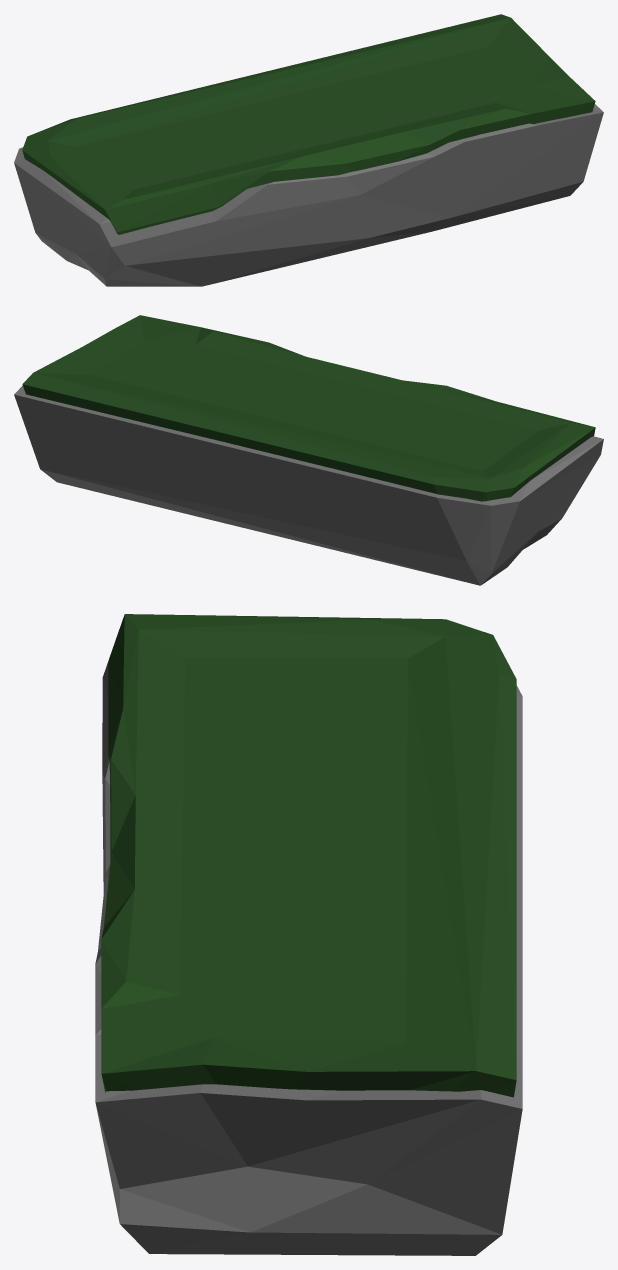
The model's file is SM_ornaments_jungle_03.fbx.
3 renders of one model, top to bottom at view 1: azimuth 30°, elevation 25°; view 2: azimuth 150°, elevation 25°; view 3: azimuth 270°, elevation 25°, orthographic. The views are drawn at different scales.
Visible parts, largest first — view 1: Object040; view 2: Object040; view 3: Object040.
Part boxes in pixels (box(x1,y1,x2,y2)): Object040: box(14, 14, 603, 286); Object040: box(14, 315, 603, 585); Object040: box(95, 614, 522, 1255).
Bounding box in the file's own units: 151 × 30.74 × 57.26.
